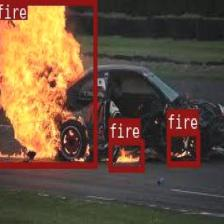fire: (0, 0, 97, 166), (166, 129, 200, 166), (108, 138, 144, 171)
